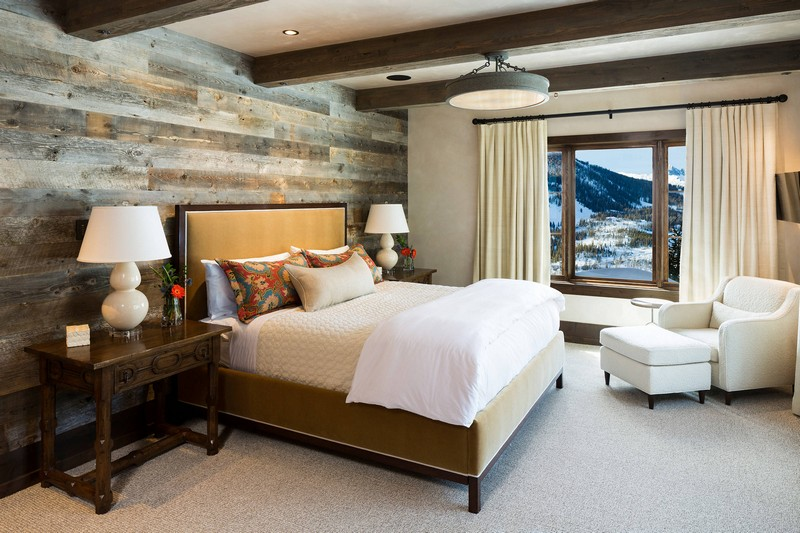bed: (174, 199, 567, 516)
lamp: (78, 202, 172, 336), (361, 197, 411, 275)
sofa: (601, 278, 795, 412)
stool: (33, 322, 233, 508)
